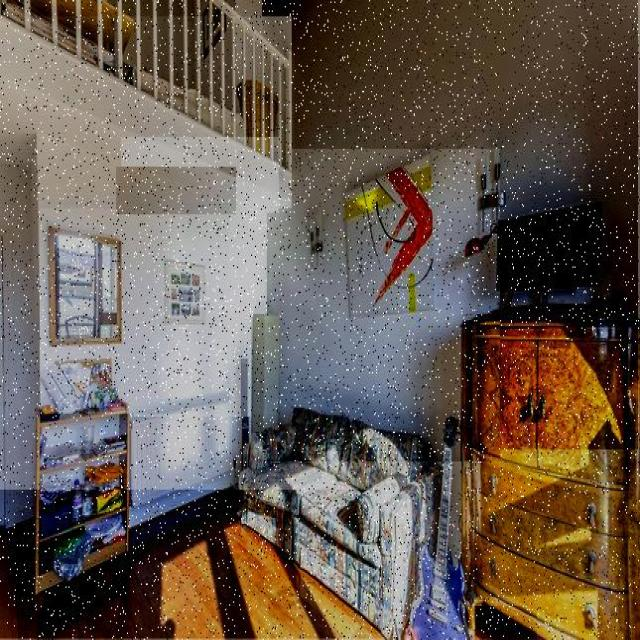Wall: (262, 0, 638, 449), (267, 149, 500, 461), (0, 491, 381, 639), (0, 16, 292, 208), (37, 135, 229, 414), (135, 188, 267, 417), (0, 165, 40, 522), (121, 139, 279, 213), (116, 167, 236, 214), (251, 314, 279, 433), (476, 607, 537, 639)
